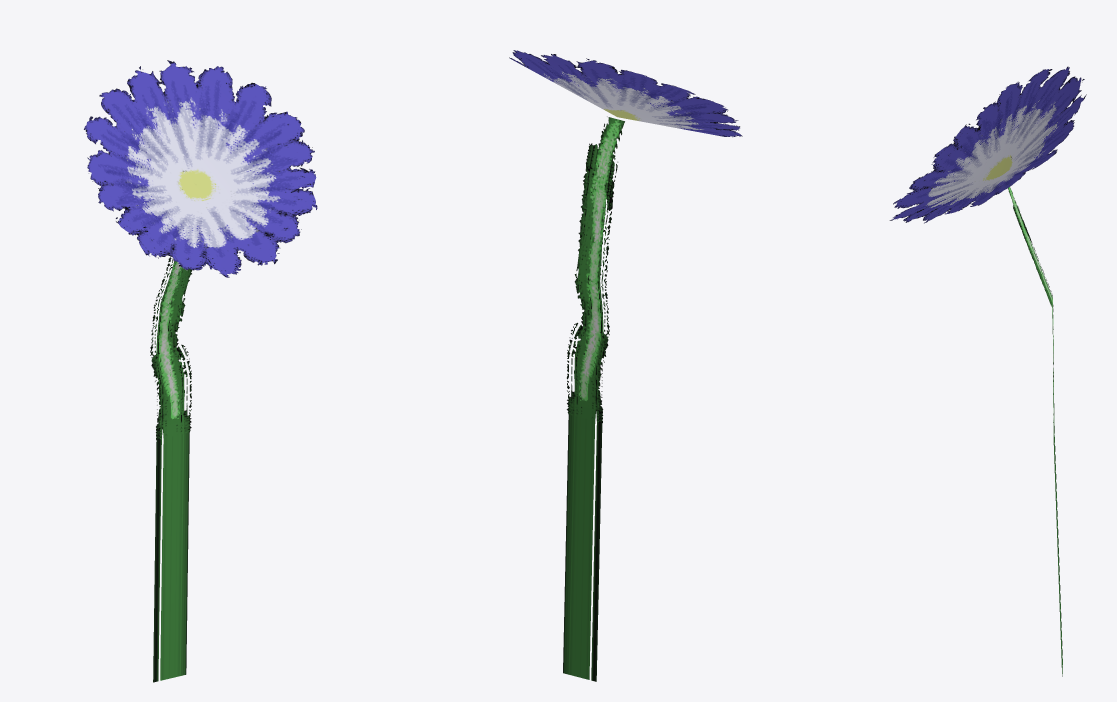
File: LeafDaisy.fbx
3 views of the same model, side by side, from view 1: azimuth 30°, elevation 25°; view 2: azimuth 150°, elevation 25°; view 3: azimuth 270°, elevation 25° (orthographic). The views are drawn at different scales.
Visible parts, largest first — view 1: Plane.002; view 2: Plane.002; view 3: Plane.002.
Boxes of the visible parts, box(x1,y1,x2,y2) form: Plane.002: box(83, 60, 317, 682); Plane.002: box(509, 50, 742, 681); Plane.002: box(889, 66, 1086, 676).
Bounding box in the file's own units: 80.28 × 178 × 66.15.
